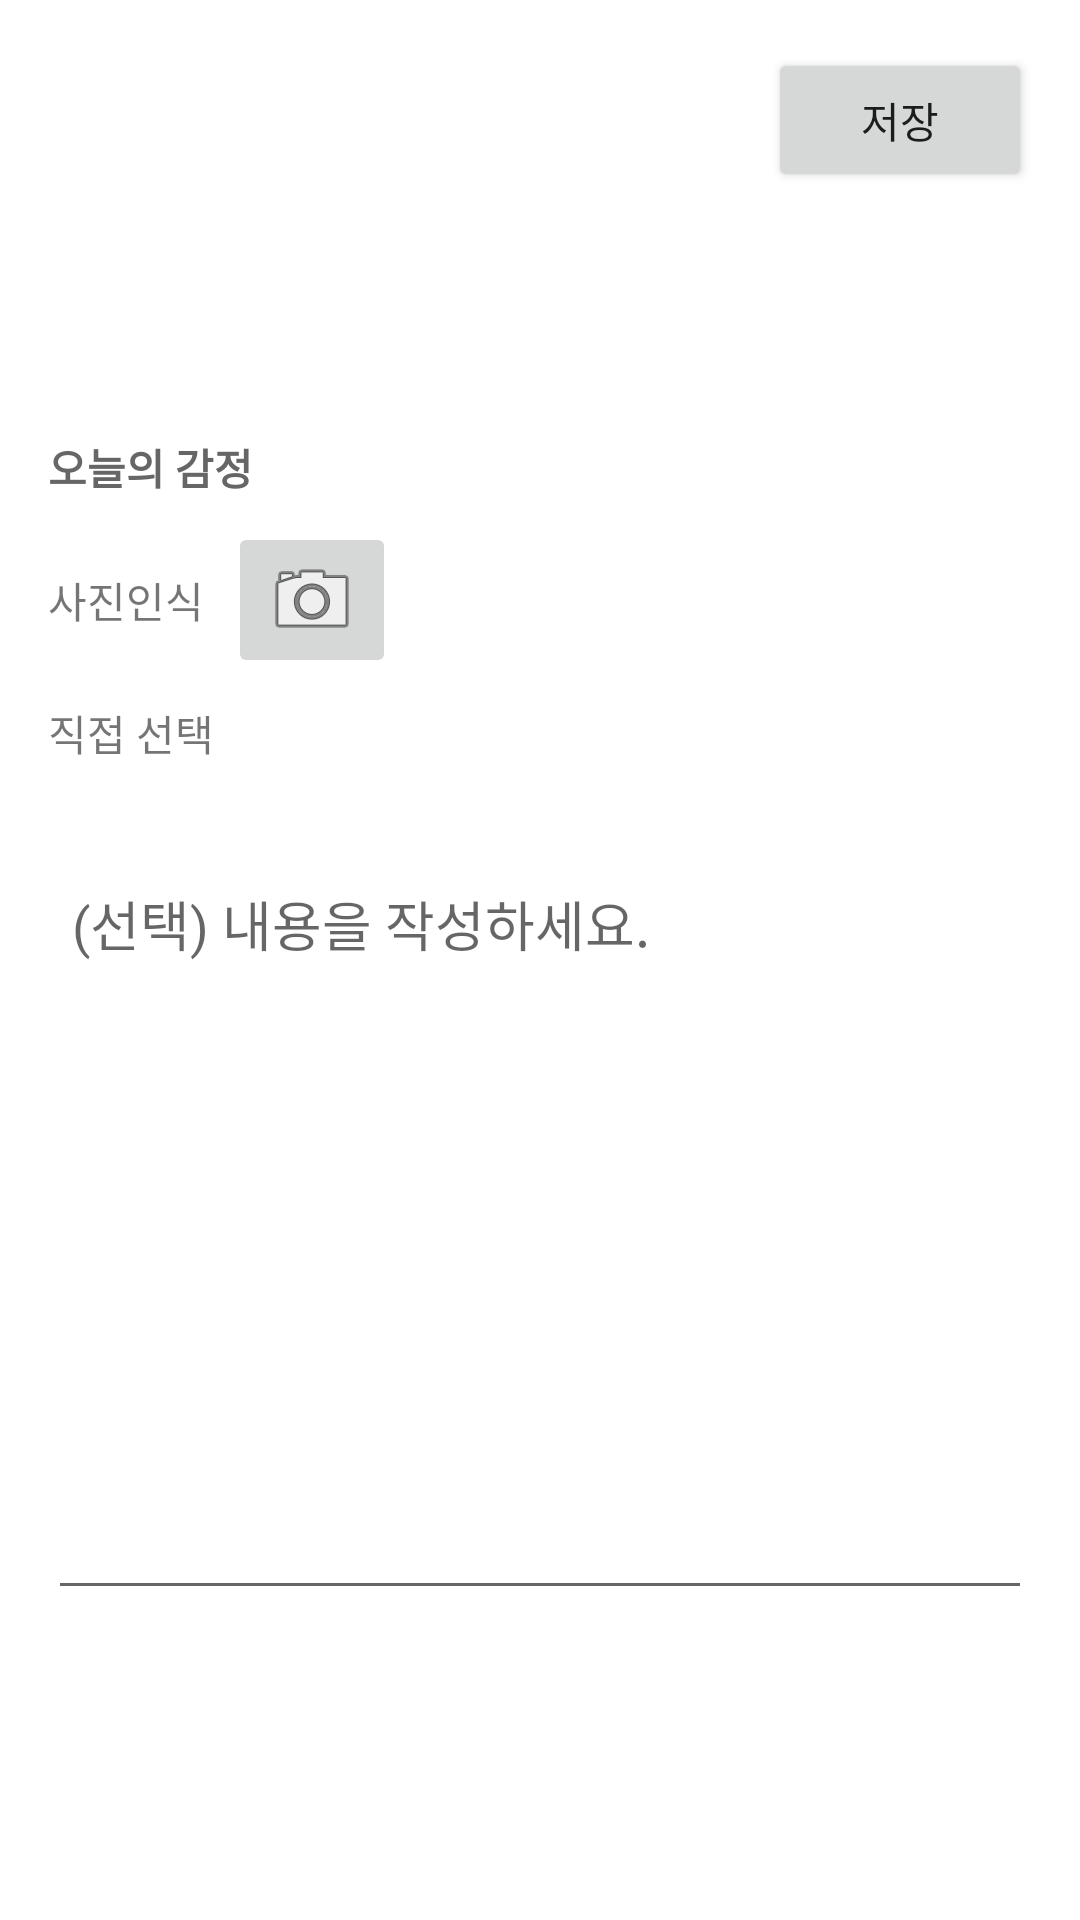

Screen size 1080px x 1920px. Icon name, then its box in pixels as (left=x1, top=y1, right=x2, bottom=y2):
camera: (left=240, top=540, right=384, bottom=660)
